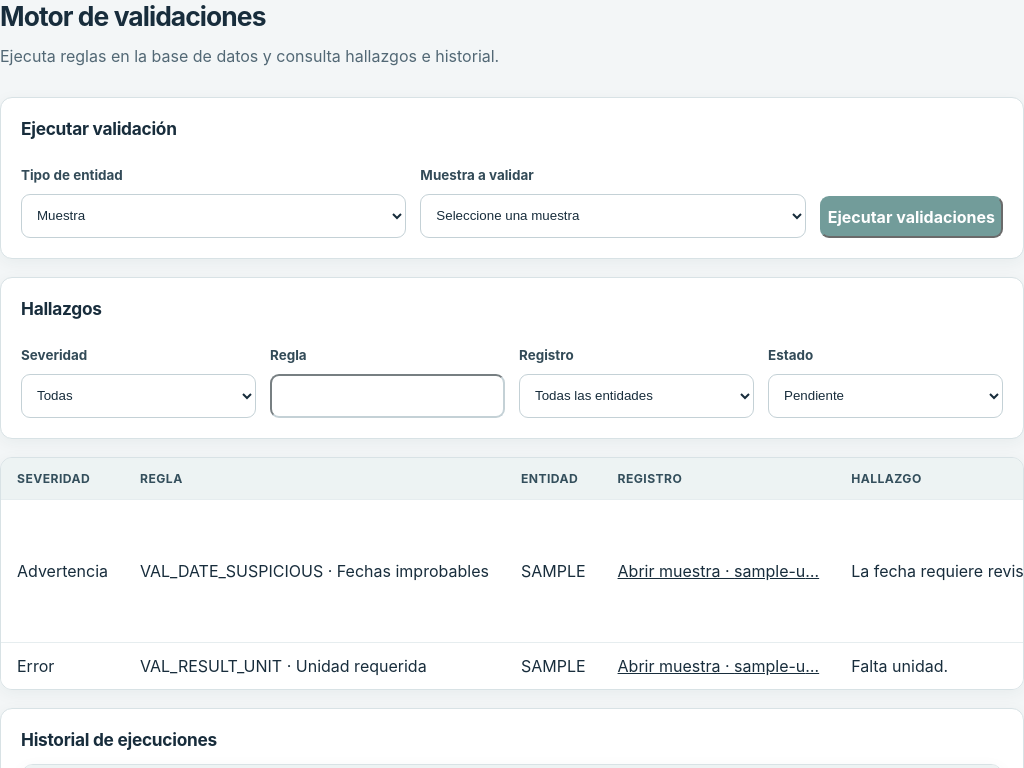
Test case: motor de validaciones › ejecuta una validación y actualiza el historial
This screenshot has width=1024, height=768.
Select "AG0001 · Cliente de prueba" in the dropdown labelled "Muestra a validar". click: (613, 216)
box: [420, 194, 806, 238]
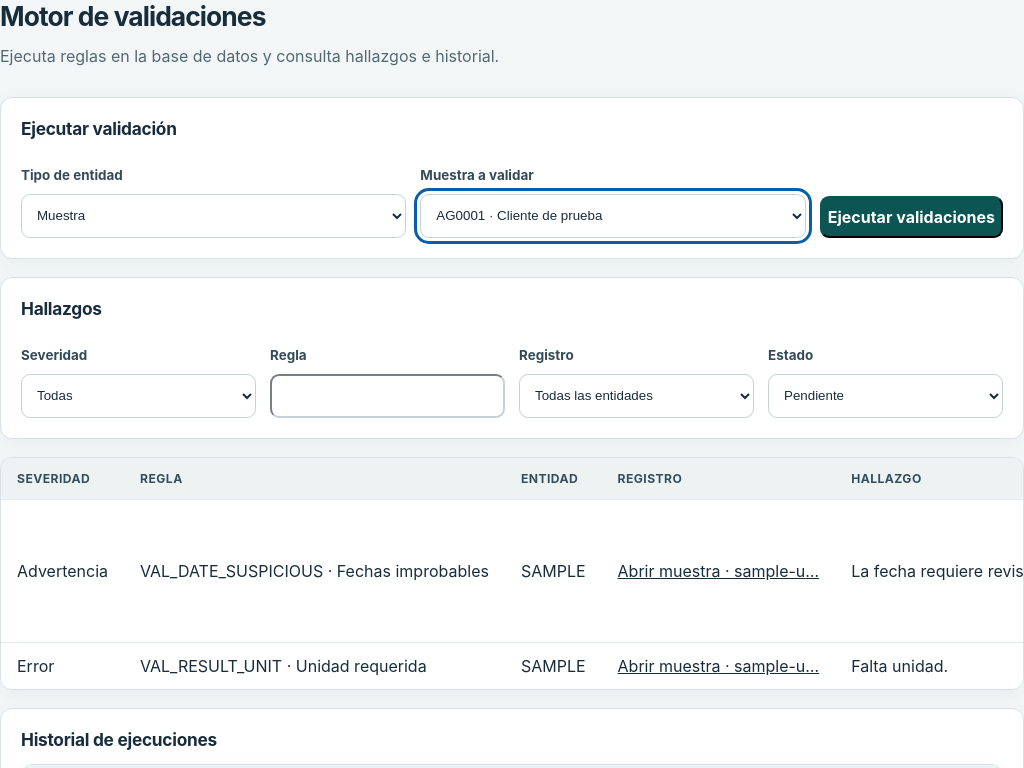
Click the button "Ejecutar validaciones". click: (911, 217)
box: [820, 196, 1003, 238]
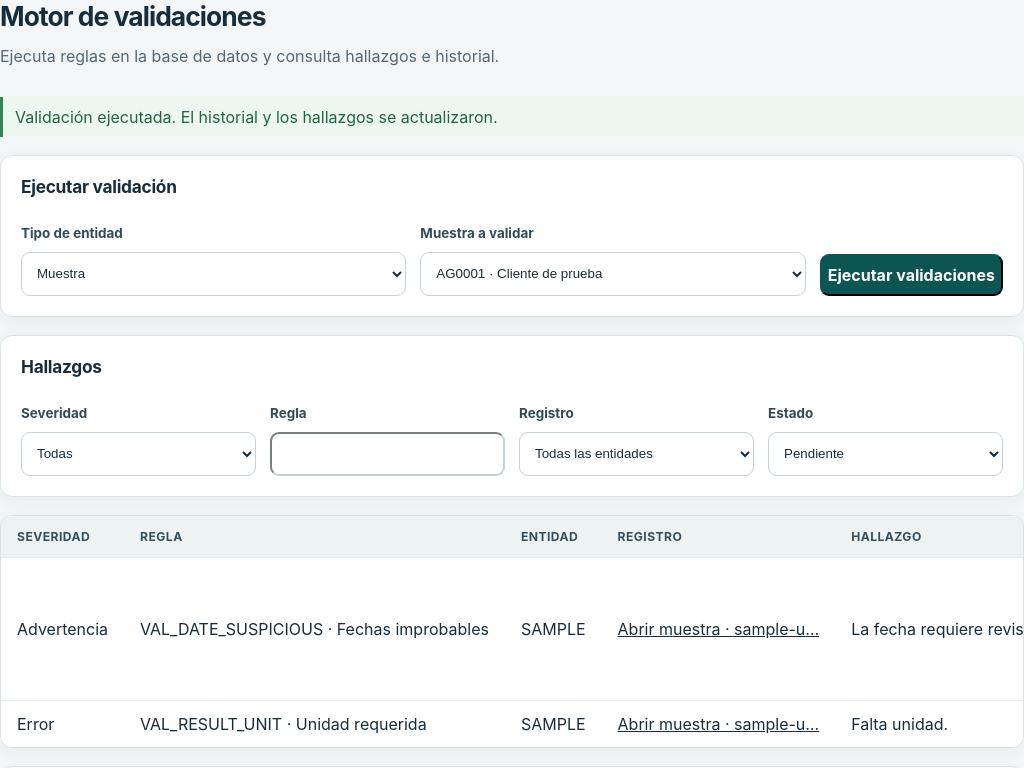
Now the message shows "Validación ejecutada", box [15, 107, 498, 127]
